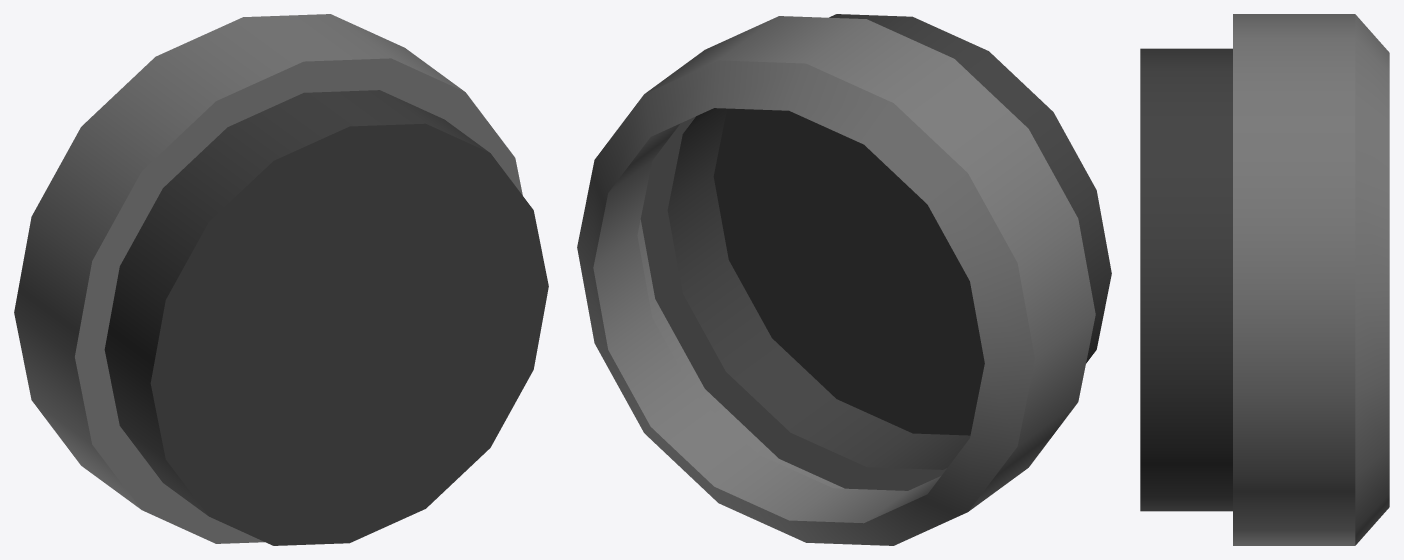
The model's file is Swi_AnMao_1X1_on.fbx.
3 renders of one model, left to right at view 1: azimuth 30°, elevation 25°; view 2: azimuth 150°, elevation 25°; view 3: azimuth 270°, elevation 25°, orthographic.
Visible parts, largest first — view 1: Box001; view 2: Box001; view 3: Box001.
Part boxes in pixels (x1,y1,x2,y2): Box001: (14,14,548,545); Box001: (577,14,1111,545); Box001: (1140,14,1389,545).
Bounding box in the file's own units: 0.575 × 0.575 × 0.2689.
